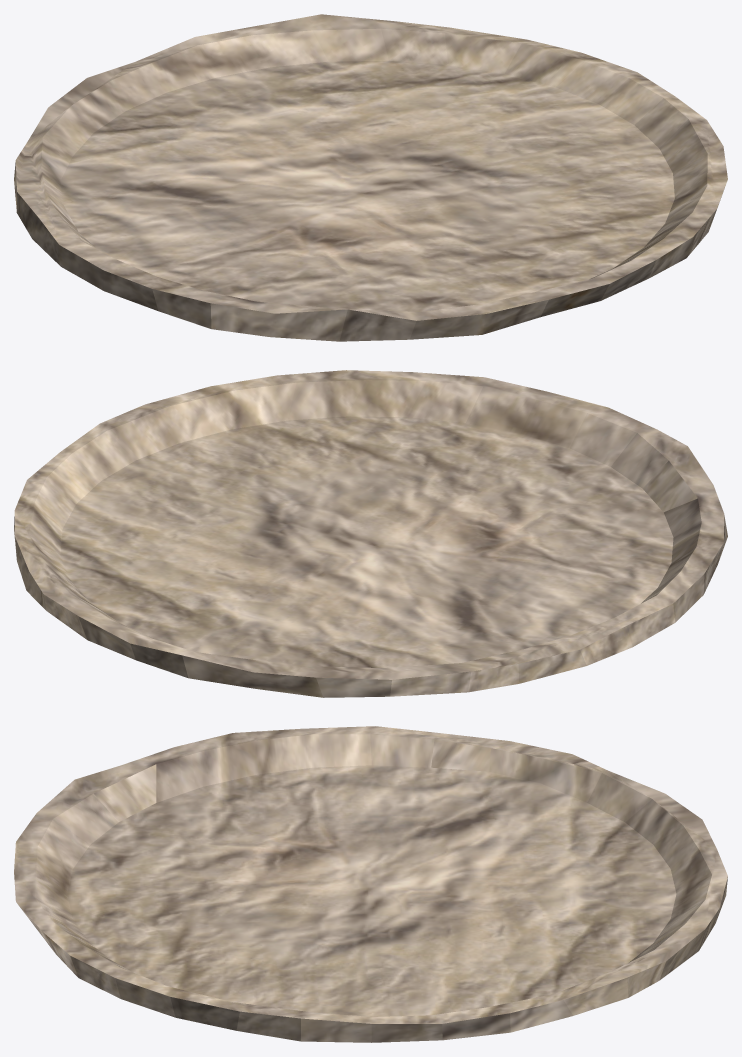
Rendered from pizzabodem.obj.
3 views of the same model, one above another, from view 1: azimuth 30°, elevation 25°; view 2: azimuth 150°, elevation 25°; view 3: azimuth 270°, elevation 25° (orthographic).
Visible parts, largest first — view 1: Cylinder.001; view 2: Cylinder.001; view 3: Cylinder.001.
Boxes of the visible parts, x1,y1,x2,y2 form: Cylinder.001: (14,14,727,341); Cylinder.001: (14,370,727,697); Cylinder.001: (14,726,727,1042).
Size of the model in its own units: 1.94 by 0.101 by 1.97.
Materials: 1 (1 with a texture image).
